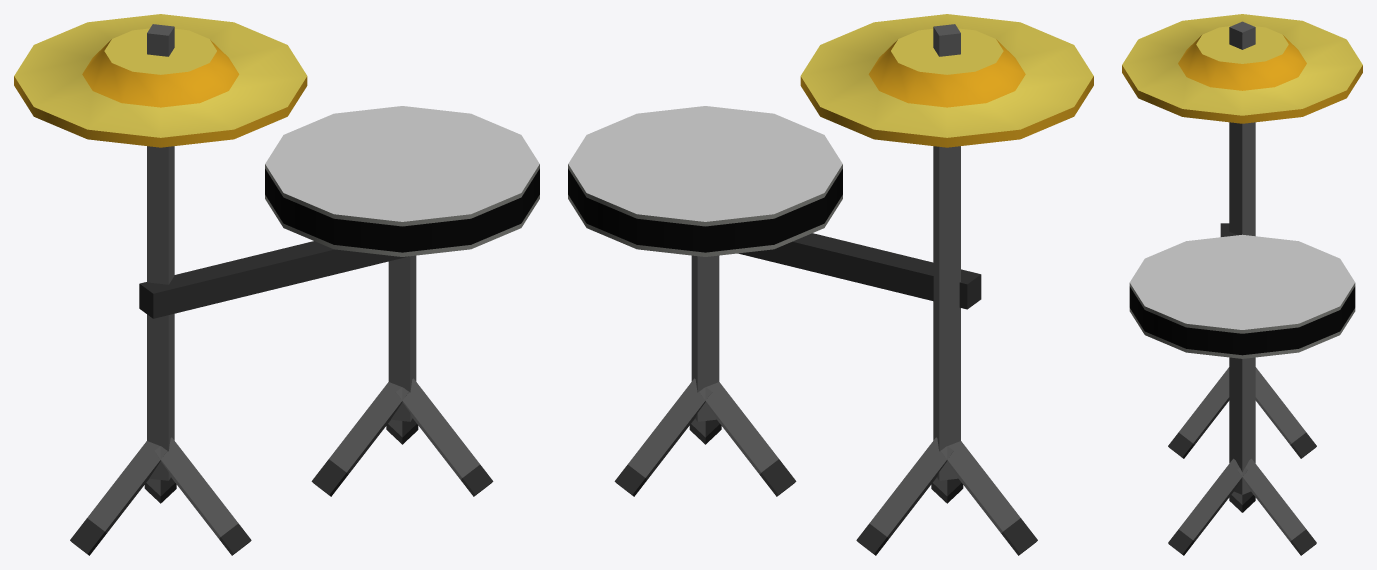
Rendered from Leesa Drums.fbx.
3 views of the same model, side by side, from view 1: azimuth 30°, elevation 25°; view 2: azimuth 150°, elevation 25°; view 3: azimuth 270°, elevation 25° (orthographic). The views are drawn at different scales.
Parts seen in each view (by area): view 1: Leesa Drums; view 2: Leesa Drums; view 3: Leesa Drums.
Boxes of the visible parts, x1,y1,x2,y2 form: Leesa Drums: (14,14,539,555); Leesa Drums: (568,14,1093,555); Leesa Drums: (1122,14,1362,555).
Bounding box in the file's own units: 0.8125 × 0.8099 × 0.4231.
